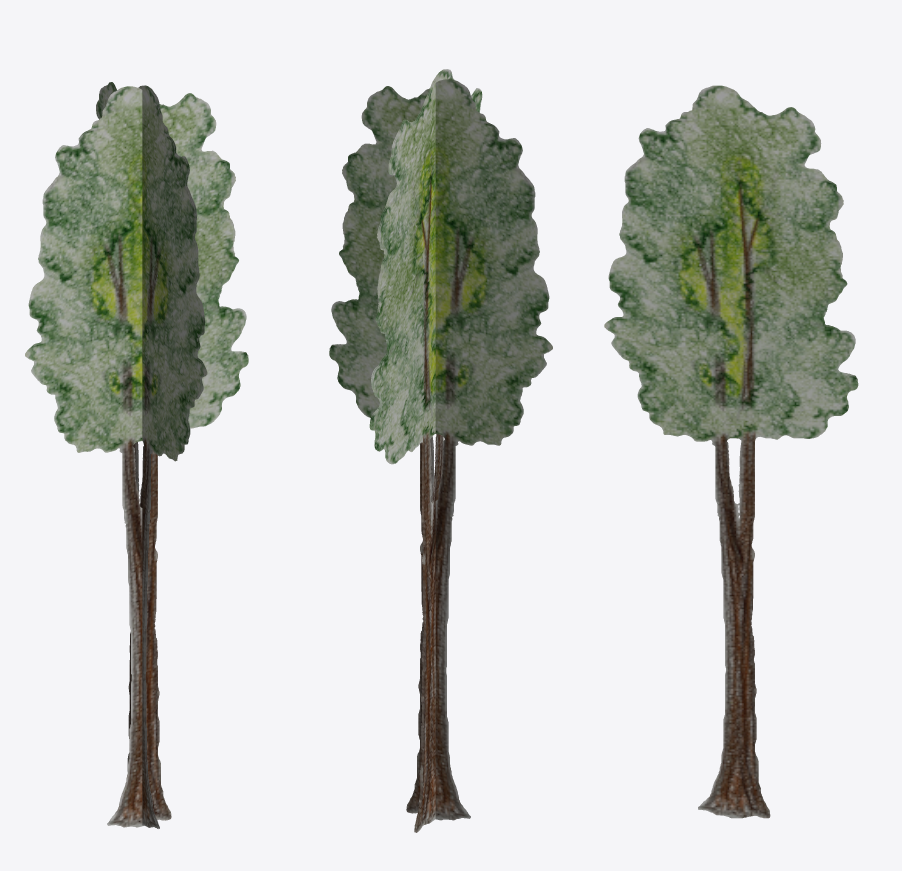
Rendered from Tree4.fbx.
The picture shows the model from 3 angles, left to right: view 1: azimuth 30°, elevation 25°; view 2: azimuth 150°, elevation 25°; view 3: azimuth 270°, elevation 25°; orthographic projection.
Parts seen in each view (by area): view 1: Tree4; view 2: Tree4; view 3: Tree4.
Part boxes in pixels (bbox=[...]): Tree4: bbox=[25, 82, 248, 828]; Tree4: bbox=[329, 69, 552, 832]; Tree4: bbox=[604, 85, 858, 818].
Bounding box in the file's own units: 763 × 2131 × 763.
1 material, 1 textured.
